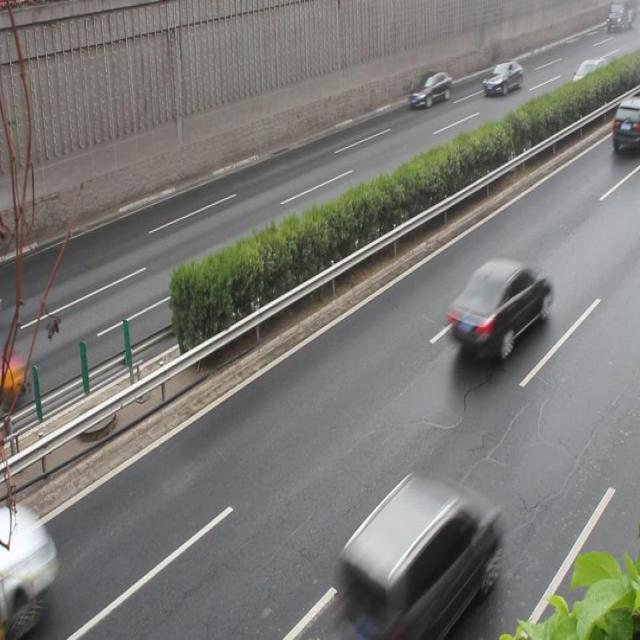car: (334, 470, 498, 624), (446, 258, 549, 362), (610, 94, 640, 159), (568, 57, 609, 101), (408, 68, 450, 109), (482, 57, 522, 99)
